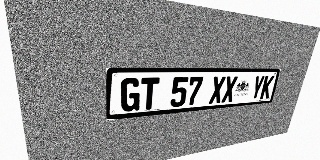5: (170, 77, 189, 108)
7: (185, 77, 203, 106)
G: (120, 78, 141, 112)
K: (260, 75, 275, 99)
T: (140, 77, 160, 110)
X: (209, 76, 226, 104), (221, 76, 238, 103)
Y: (250, 76, 265, 100)
